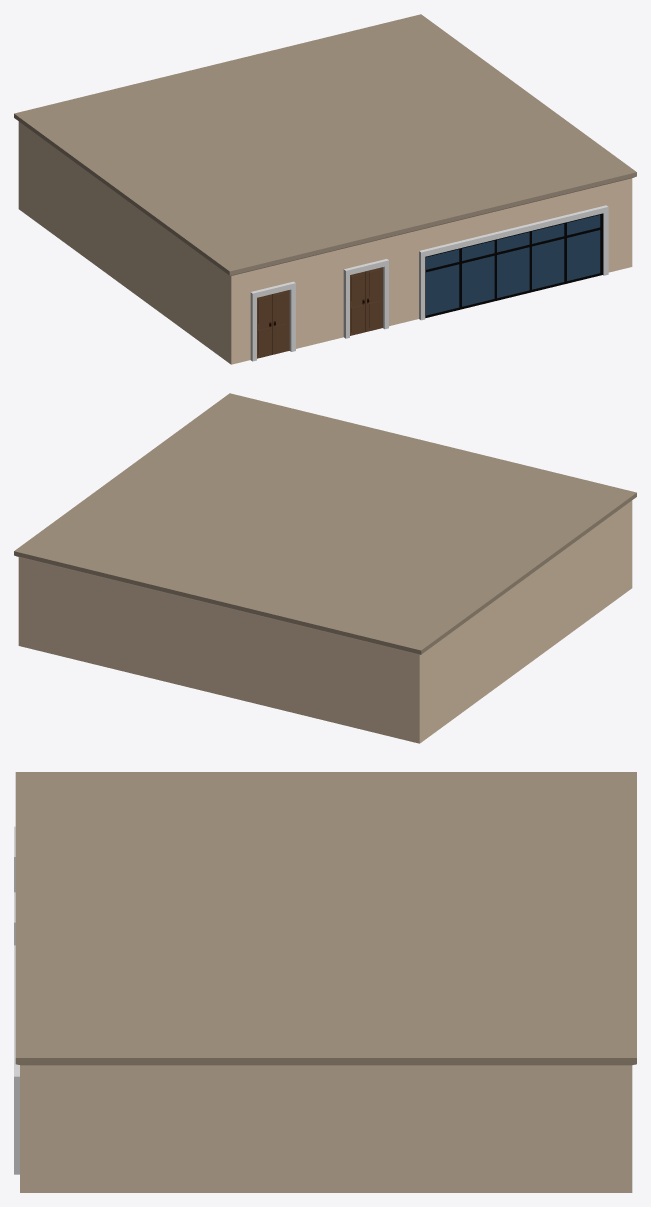
Rendered from Apt5_Base.fbx.
The picture shows the model from 3 angles, top to bottom: view 1: azimuth 30°, elevation 25°; view 2: azimuth 150°, elevation 25°; view 3: azimuth 270°, elevation 25°; orthographic projection. The views are drawn at different scales.
Visible parts, largest first — view 1: Apt5_Base_Border, Apt5_Base_Main, Apt5_Base_Window, Apt5_Base_DoorFrame, Apt5_Base_Door, Apt5_Base_Frame; view 2: Apt5_Base_Border, Apt5_Base_Main; view 3: Apt5_Base_Border, Apt5_Base_Main, Apt5_Base_DoorFrame.
Boxes of the visible parts, left/top/right/bottom form: Apt5_Base_Border: left=14, top=14, right=636, bottom=275; Apt5_Base_Main: left=18, top=121, right=632, bottom=364; Apt5_Base_Window: left=426, top=215, right=600, bottom=315; Apt5_Base_DoorFrame: left=250, top=205, right=608, bottom=361; Apt5_Base_Door: left=257, top=267, right=382, bottom=358; Apt5_Base_Frame: left=425, top=213, right=602, bottom=317; Apt5_Base_Border: left=14, top=393, right=636, bottom=654; Apt5_Base_Main: left=18, top=500, right=632, bottom=743; Apt5_Base_Border: left=15, top=772, right=636, bottom=1065; Apt5_Base_Main: left=20, top=1065, right=632, bottom=1192; Apt5_Base_DoorFrame: left=14, top=826, right=19, bottom=1174.
Bounding box in the file's own units: 1568 × 350 × 1443.
